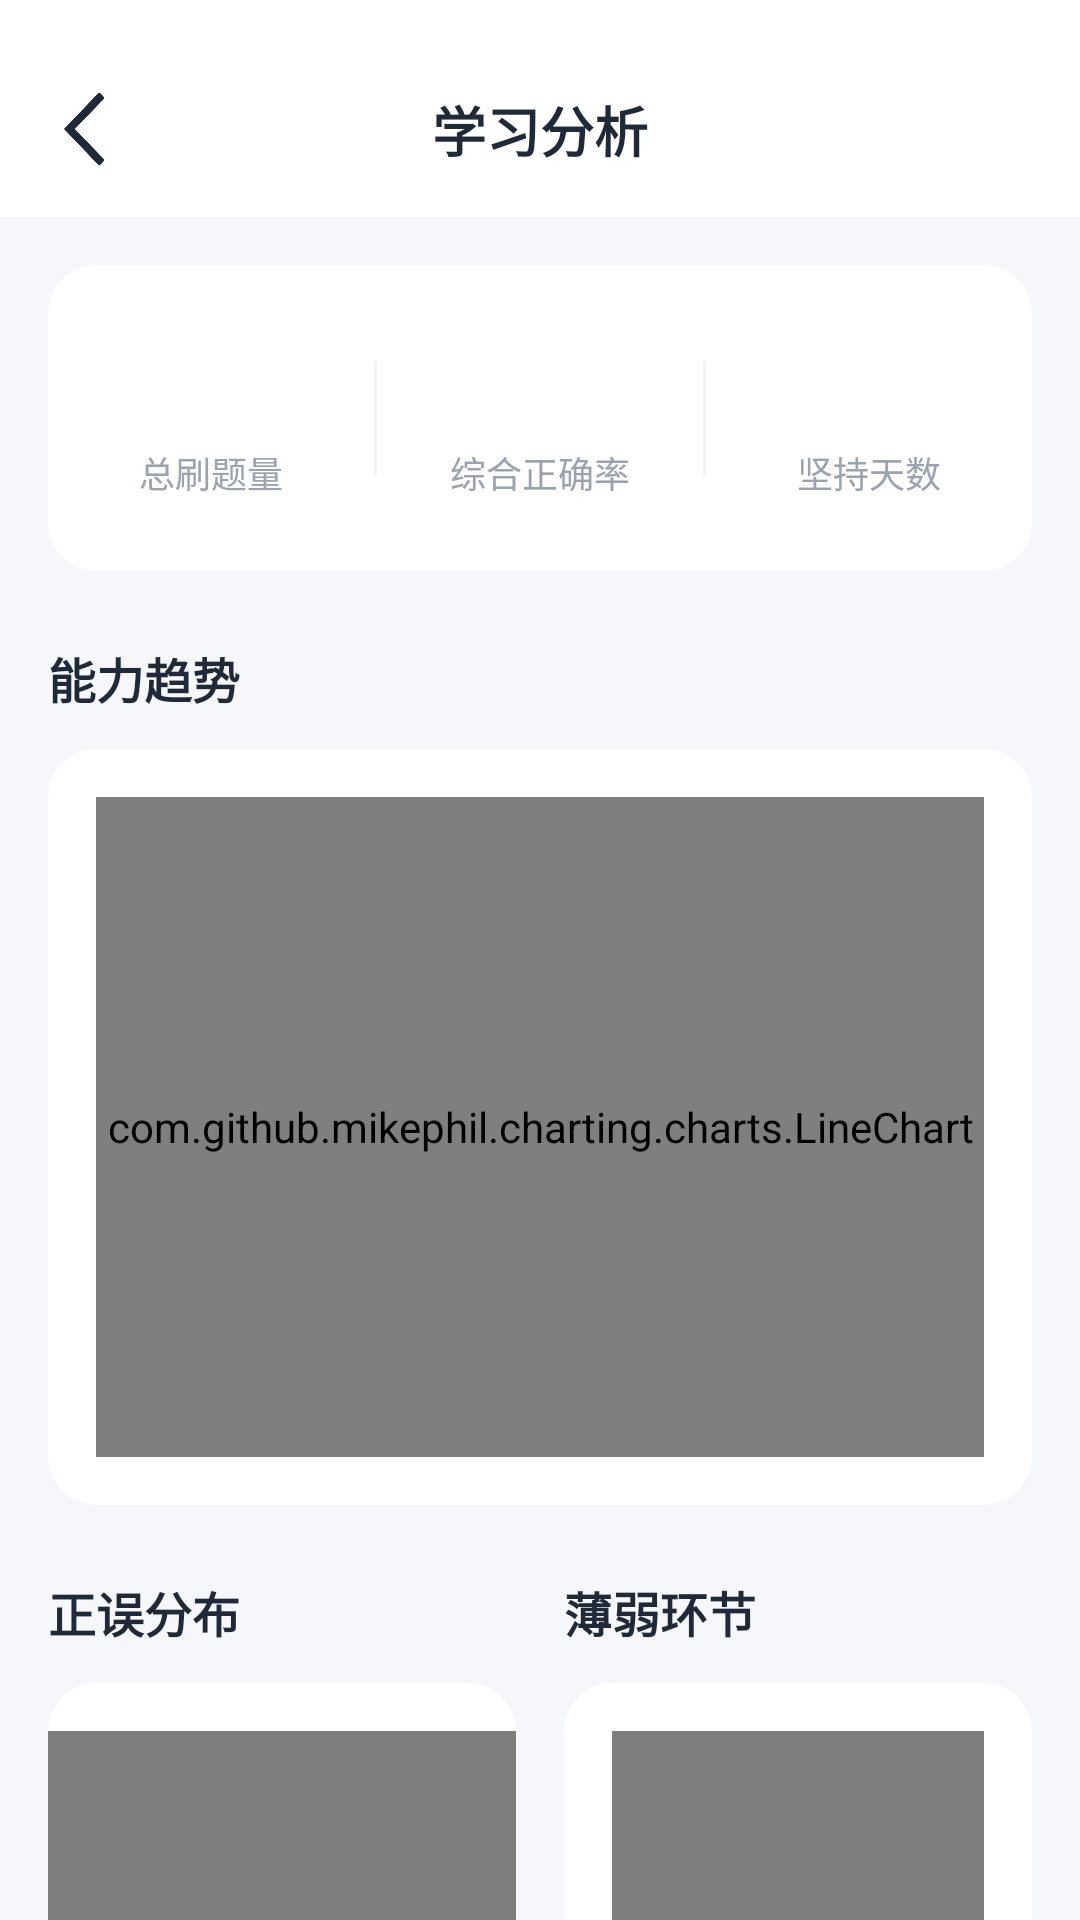

Icon click points for this 1080 x 1920 phone screenshot, format (x,y):
back: (84,129)
